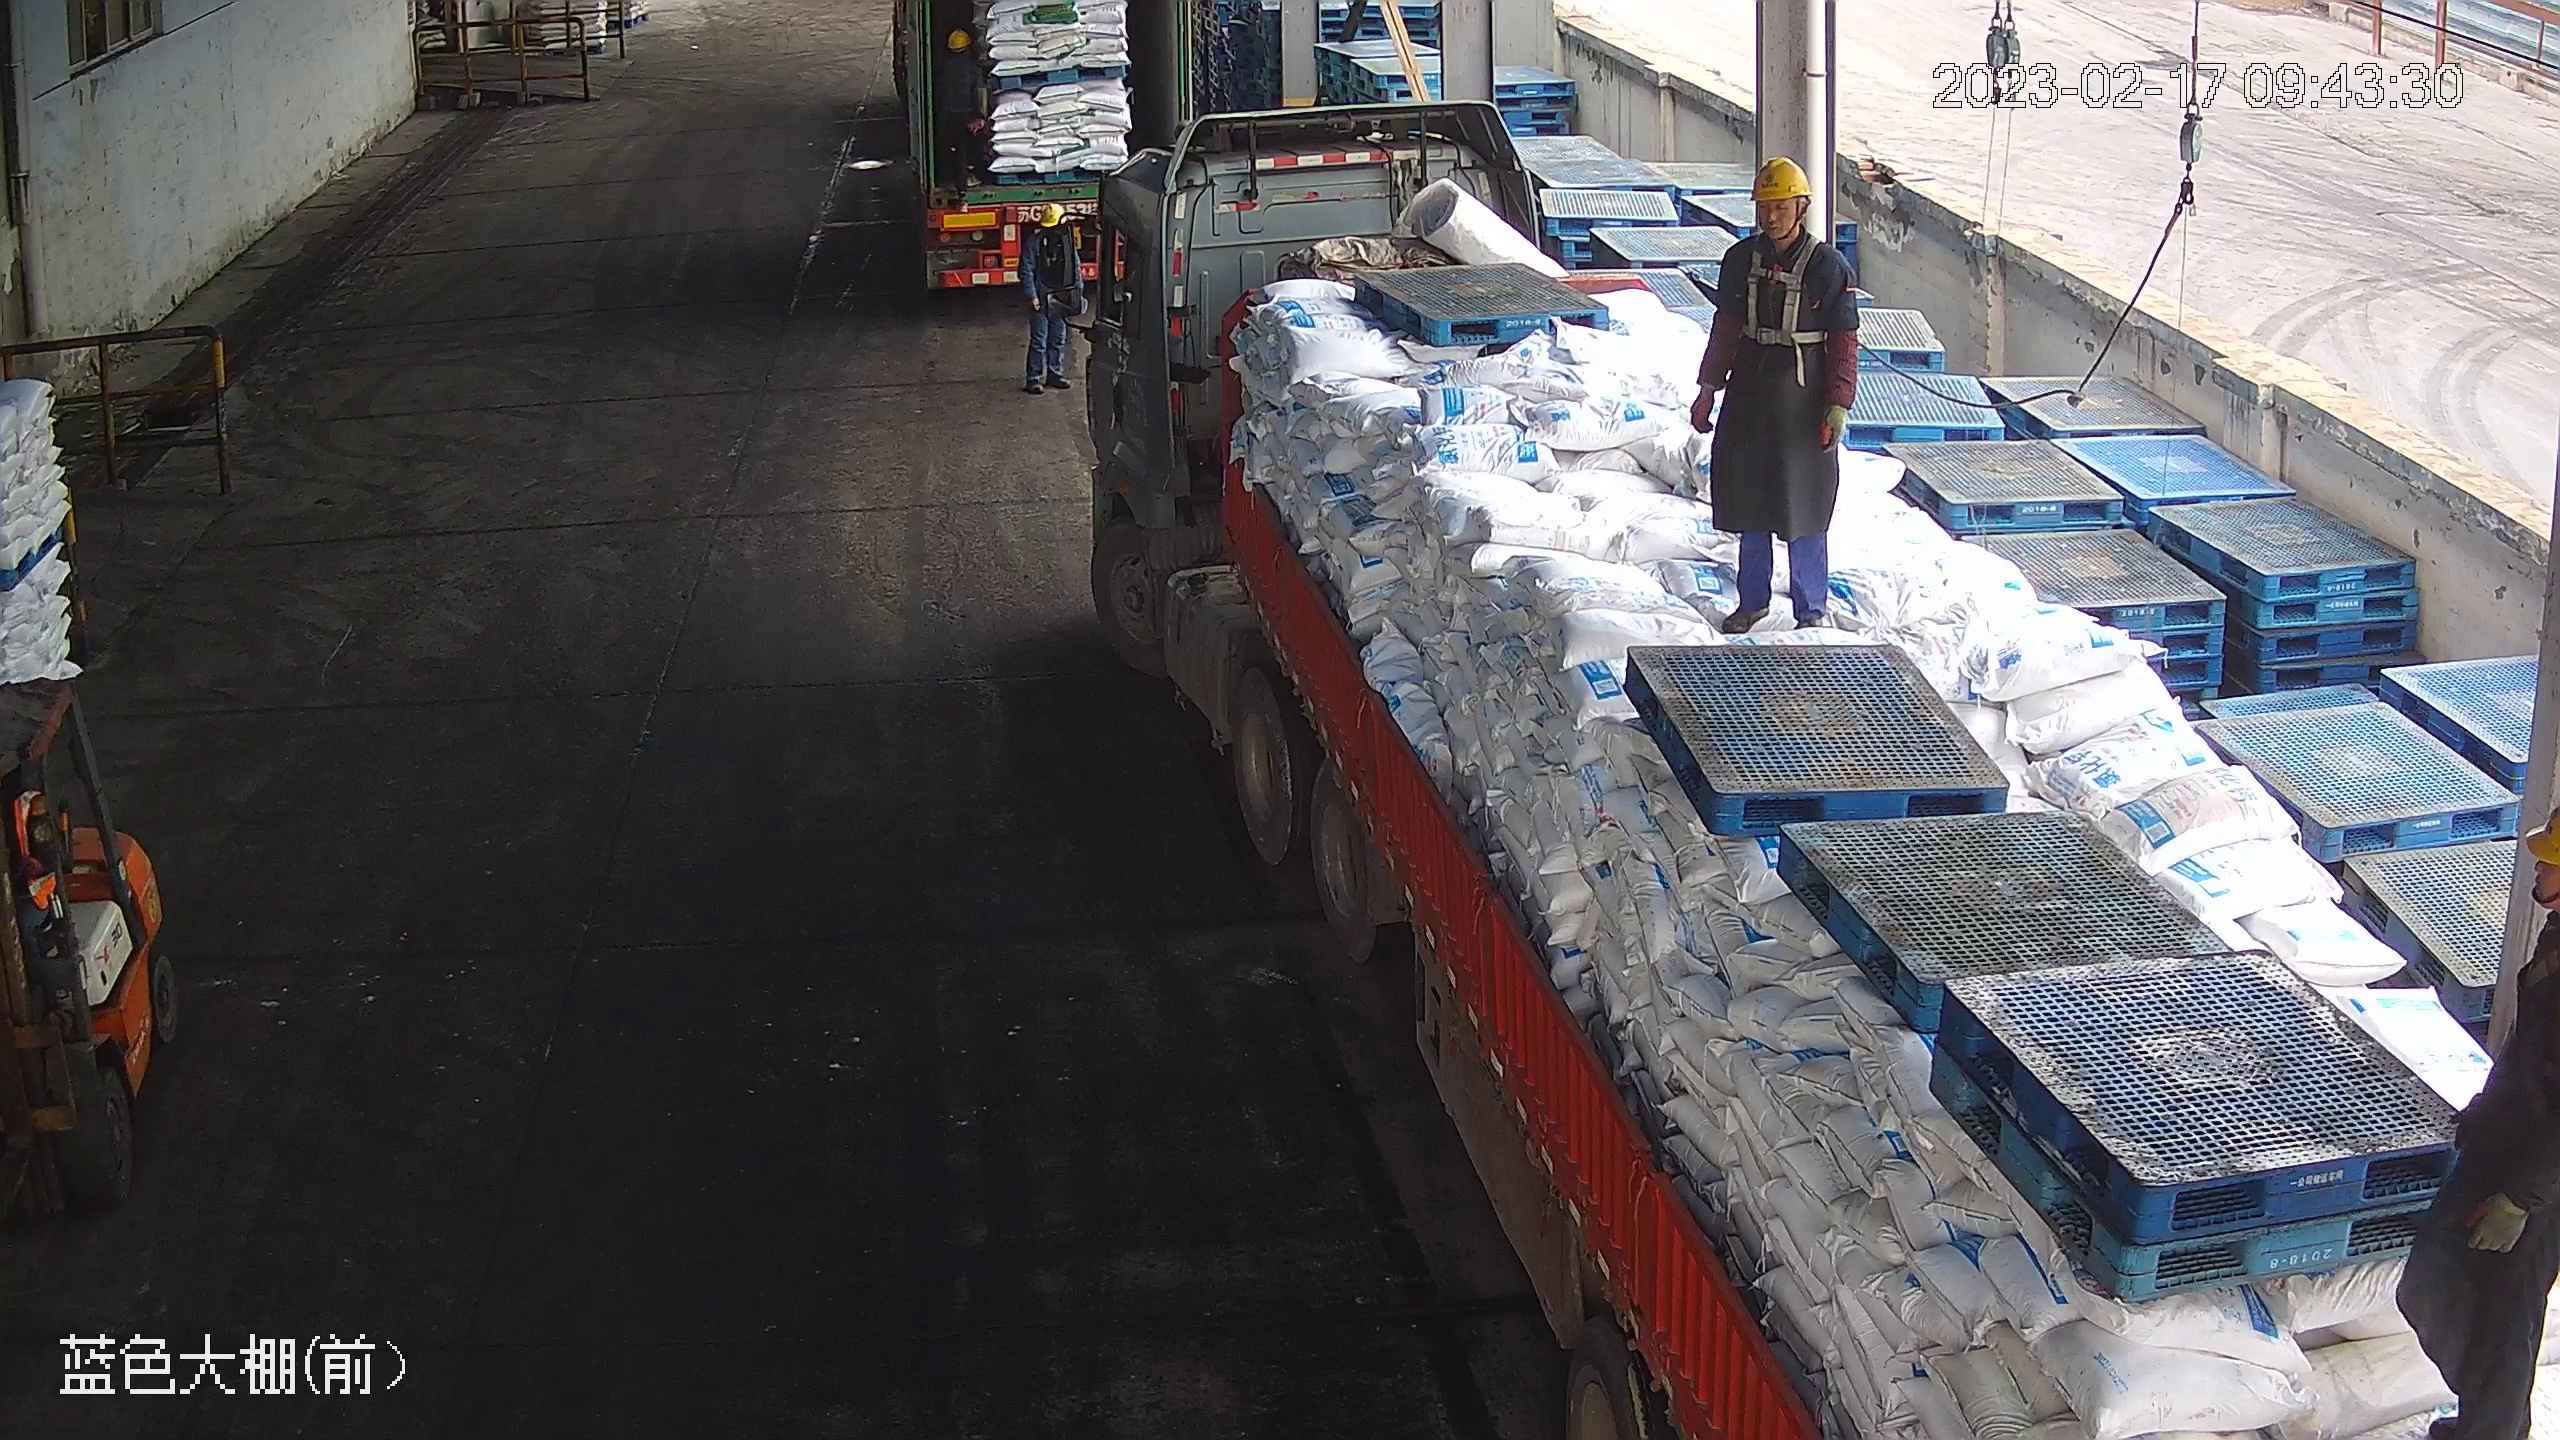belt: (1739, 228, 1828, 345)
head: (1705, 156, 1853, 295), (936, 28, 982, 75)
helmet: (1749, 156, 1816, 202), (1036, 204, 1069, 227), (947, 30, 972, 48)
people: (2379, 791, 2560, 1440), (1691, 152, 1861, 637), (1017, 204, 1081, 397), (935, 28, 990, 213)
truck: (1037, 100, 2555, 1440), (891, 1, 1193, 290)
